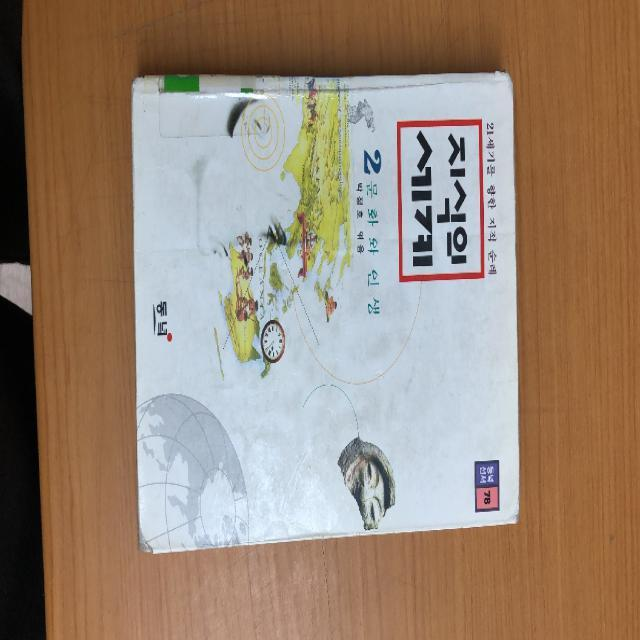Wornout: (128, 71, 147, 162), (508, 472, 527, 528), (490, 64, 518, 100), (136, 508, 155, 559)
